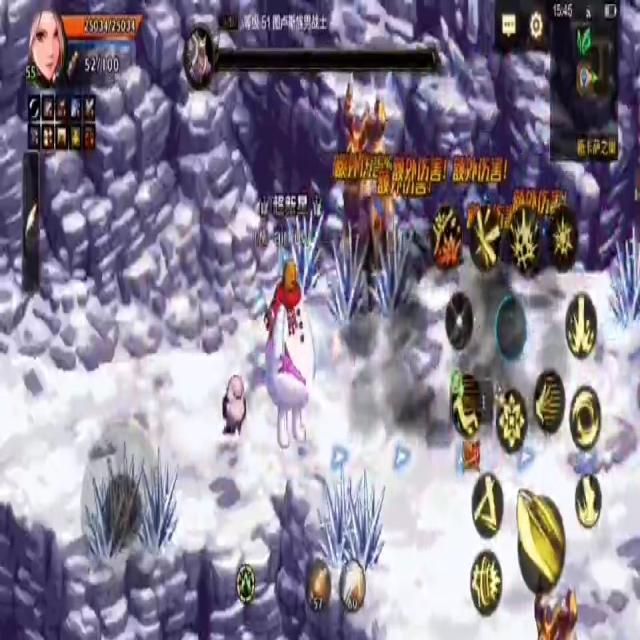player: (264, 246, 318, 451)
